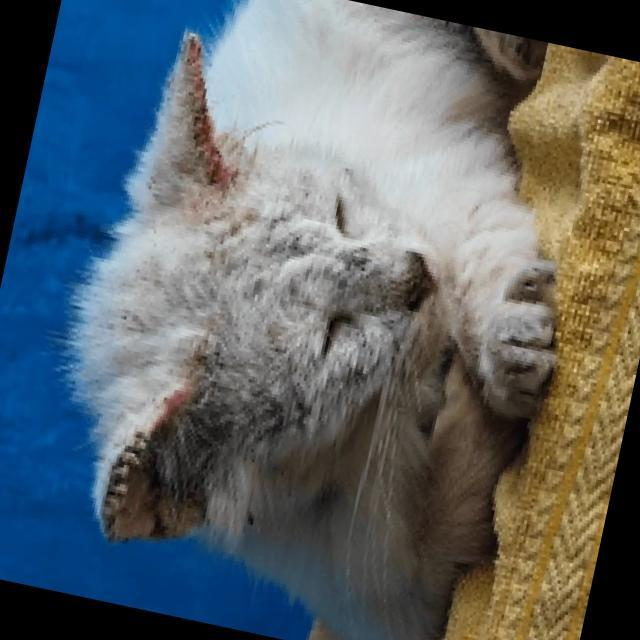Mange: (87, 416, 157, 544), (179, 21, 225, 182), (334, 228, 378, 278)
